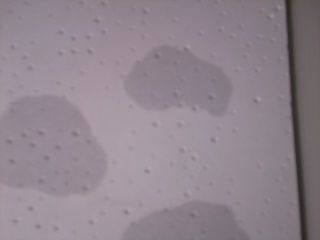Water_detected: (9, 103, 90, 184), (130, 47, 203, 97), (129, 202, 202, 240)
